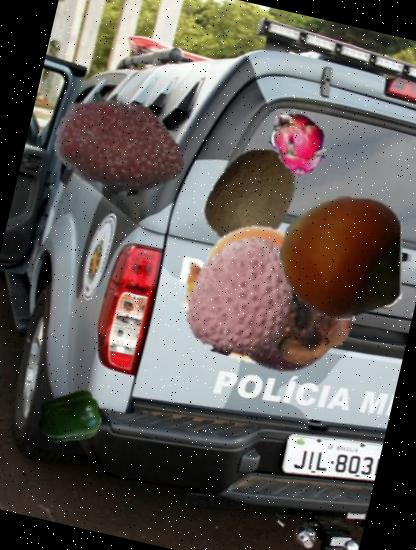Kiwi: (190, 136, 314, 260)
Lychee: (167, 219, 317, 369)
Mangostan: (216, 243, 367, 394)
Nut: (264, 184, 414, 333)
Pepper: (31, 378, 107, 454)
Physalis: (166, 206, 340, 380)
Pitahaya: (254, 97, 340, 184)
Strawberry: (42, 67, 200, 225)
